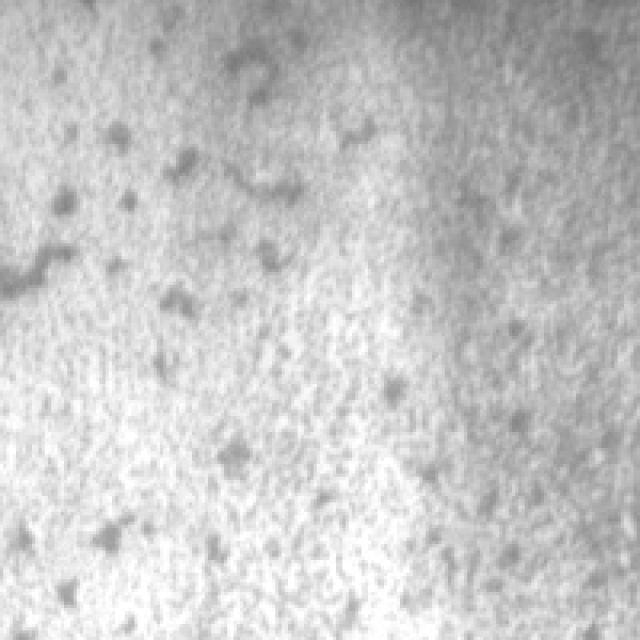pitted_surface: (3, 29, 416, 637), (314, 45, 586, 627)
